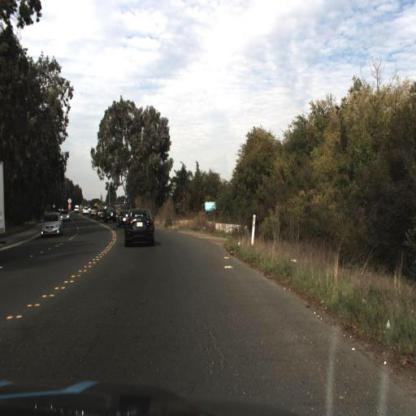car: (121, 205, 155, 250), (40, 210, 64, 234), (102, 199, 118, 225), (116, 206, 127, 230), (94, 201, 106, 222), (86, 203, 100, 219), (81, 203, 89, 218)
